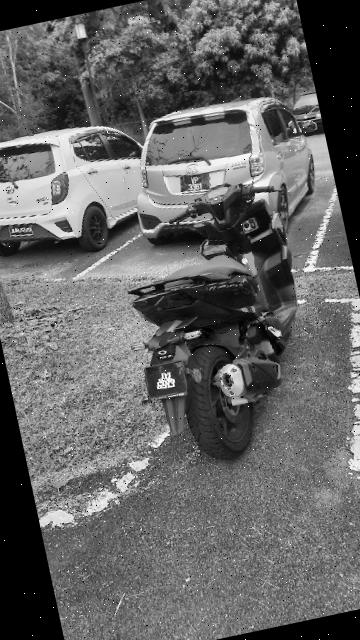License_Plate: (138, 356, 192, 406), (172, 165, 215, 199), (3, 220, 38, 244)
car: (126, 87, 326, 252), (1, 108, 166, 267)
motorcycle: (100, 163, 333, 479)
